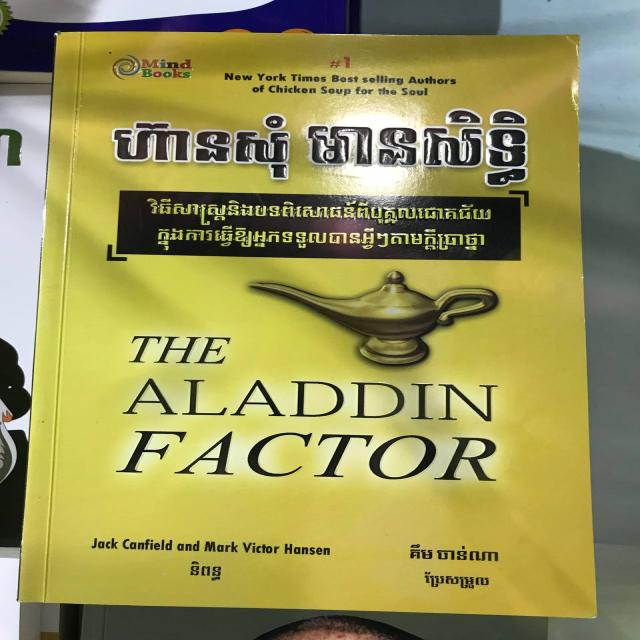1: (100, 100, 535, 186), (405, 537, 505, 566)
Yolov11kh: (137, 190, 497, 228), (148, 222, 489, 258), (421, 570, 494, 591), (186, 557, 231, 584)
